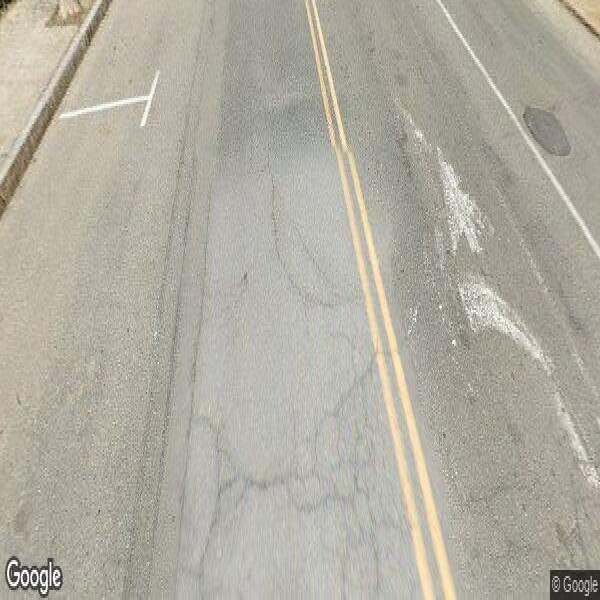manhole: (518, 100, 574, 167)
